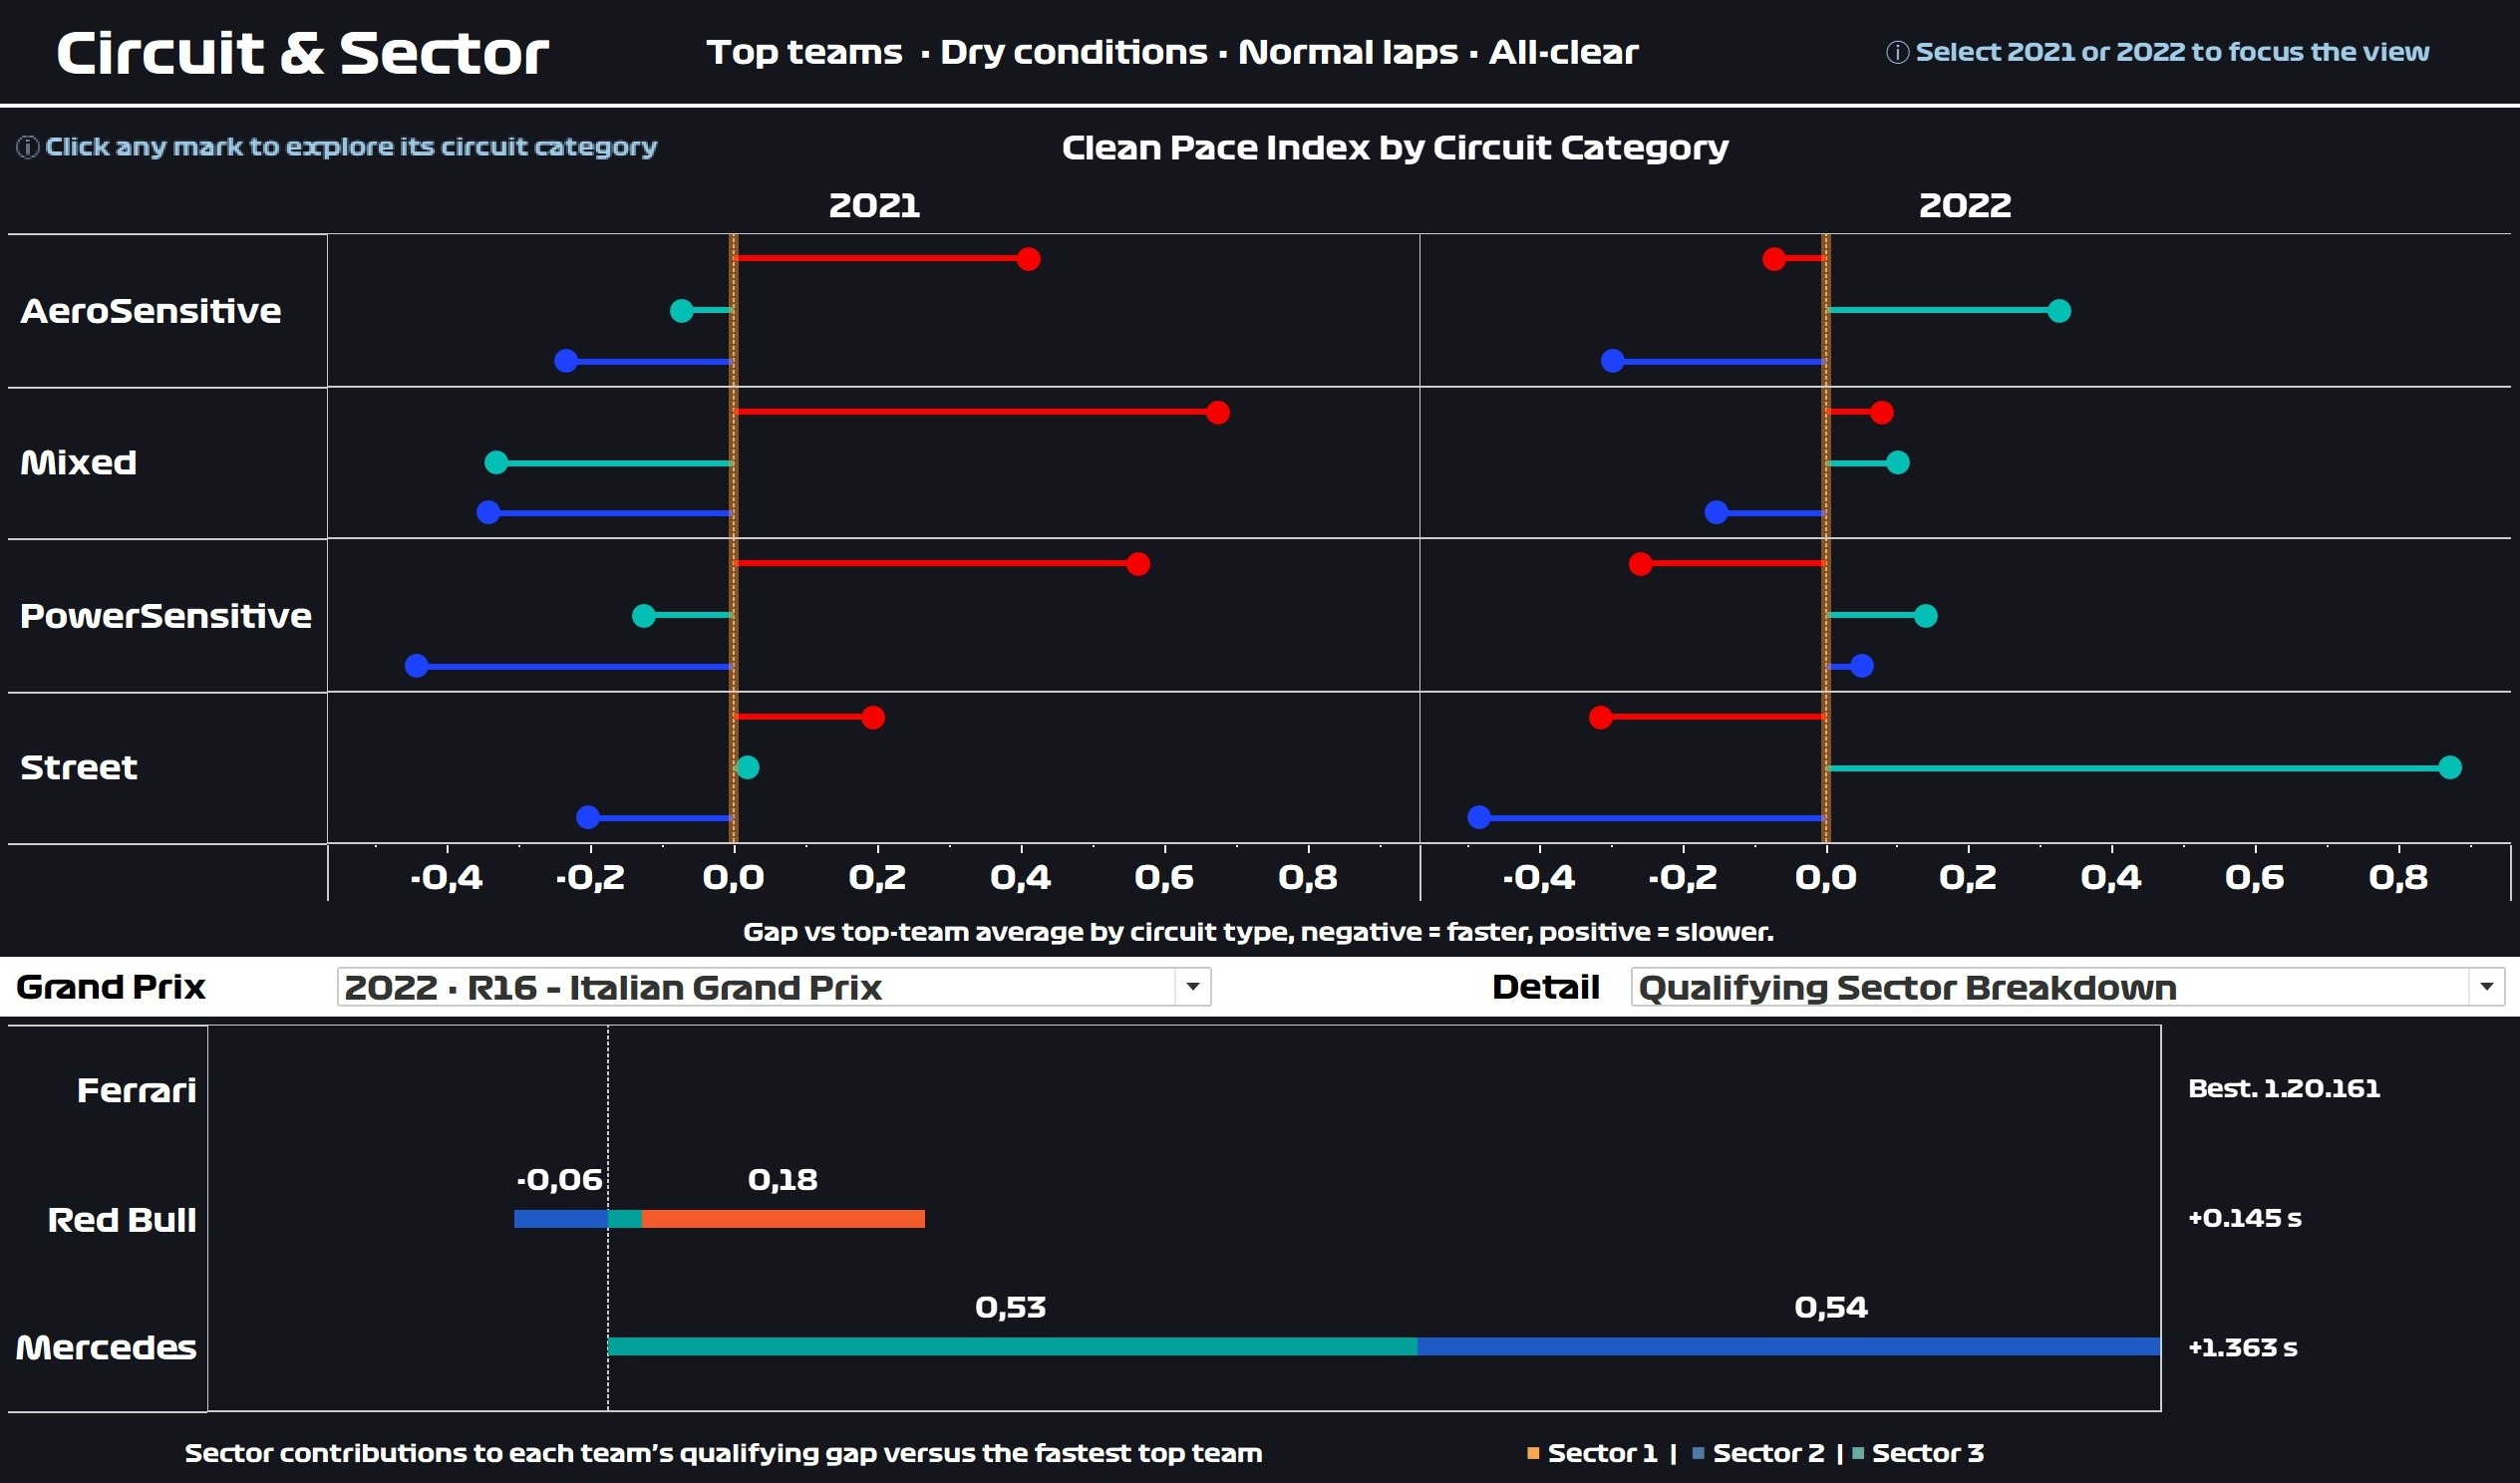

This screenshot's page, from the dashboard's own definition file:
{"tool":"tableau","page":{"name":"Circuit & Sector","canvas":[1280,760],"ordinal":0},"visuals":[{"type":"text","box":[8,8,346,52]},{"type":"text","box":[354,8,592,52]},{"type":"worksheet","title":"Season Info Message","mark":"Automatic","box":[946,8,326,52]},{"type":"worksheet","title":"Season Back Button","mark":"Automatic","box":[960,8,312,52]},{"type":"worksheet","title":"Circuit category info","mark":"Automatic","box":[8,62,524,39]},{"type":"worksheet","title":"Back to Circuit Categories","mark":"Text","box":[8,62,467,39]},{"type":"worksheet","title":"Circuit View Dynamic Title","mark":"Automatic","box":[532,62,415,39]},{"type":"worksheet","title":"Grand Prix Below Info","mark":"Automatic","box":[890,62,382,39]},{"type":"blank","box":[8,101,161,20]},{"type":"worksheet","title":"Season Year Selector","mark":"Text","rows":["Calculation_1987116227198986"],"cols":["season_year"],"box":[169,101,1103,20]},{"type":"worksheet","title":"CPI — Category Overview","mark":"GanttBar","rows":["global_circuit_category","team_name"],"cols":["season_year","Calculation_2377154289201161","Calculation_2377154284285960"],"box":[8,121,1264,366.9]},{"type":"worksheet","title":"CPI — Circuit Drilldown","mark":"GanttBar","rows":["event_name","team_name"],"cols":["season_year","Calculation_2377154289201161","Calculation_2377154284285960"],"box":[8,121,1264,367]},{"type":"text","box":[8,488,162,30]},{"type":"parameter","param":"[Parameters].[Parameter 1987116235718677]","box":[170,488,453,30]},{"type":"text","box":[623,488,196,30]},{"type":"parameter","param":"[Parameters].[Parameter 3402459086753835]","box":[819,488,453,30]},{"type":"worksheet","title":"Sector 1 Fingerprint","mark":"Circle","rows":["team_name"],"cols":["season_year","Calculation_2377154473168937","Calculation_2377154461823002"],"box":[8,518,470,234]},{"type":"worksheet","title":"Quali Sector Contribution","mark":"Bar","rows":["team_name"],"cols":["season_year"],"box":[8,518,1089,234]},{"type":"worksheet","title":"Clean Race Pace Overview","mark":"GanttBar","rows":["team_name"],"cols":["Calculation_3402459075788824","Calculation_3402459075862553"],"box":[8,518,928,234]},{"type":"worksheet","title":"Sector 2 Fingerprint","mark":"Circle","rows":["team_name"],"cols":["season_year","Calculation_2377154478805036","Calculation_2377154462015515"],"box":[478,518,403,234]},{"type":"worksheet","title":"Sector 3 Fingerprint","mark":"Circle","rows":["team_name"],"cols":["season_year","Calculation_2377154482085935","Team Sector 2 Avg S (copy)_2377154462101532"],"box":[881,518,391,234]},{"type":"worksheet","title":"Clean Race Pace Overview Labels","mark":"Text","rows":["team_name"],"box":[936,518,336,234]},{"type":"worksheet","title":"Qualifying Result KPI","mark":"Text","rows":["team_name"],"box":[1097,518,175,202]},{"type":"blank","box":[1097,720,175,32]}]}

Visuals, with their boxes in screenshot pixels (x1, y1, x2, y2), scaled from the page's 1280x760 canvas onto the 2520x1483 screenshot:
text: (x1=16, y1=16, x2=697, y2=117)
text: (x1=697, y1=16, x2=1862, y2=117)
"Season Info Message" worksheet: (x1=1862, y1=16, x2=2504, y2=117)
"Season Back Button" worksheet: (x1=1890, y1=16, x2=2504, y2=117)
"Circuit category info" worksheet: (x1=16, y1=121, x2=1048, y2=197)
"Back to Circuit Categories" worksheet (Text marks): (x1=16, y1=121, x2=935, y2=197)
"Circuit View Dynamic Title" worksheet: (x1=1048, y1=121, x2=1864, y2=197)
"Grand Prix Below Info" worksheet: (x1=1752, y1=121, x2=2504, y2=197)
blank: (x1=16, y1=197, x2=333, y2=236)
"Season Year Selector" worksheet (Text marks): (x1=333, y1=197, x2=2504, y2=236)
"CPI — Category Overview" worksheet (GanttBar marks): (x1=16, y1=236, x2=2504, y2=952)
"CPI — Circuit Drilldown" worksheet (GanttBar marks): (x1=16, y1=236, x2=2504, y2=952)
text: (x1=16, y1=952, x2=335, y2=1011)
parameter: (x1=335, y1=952, x2=1226, y2=1011)
text: (x1=1226, y1=952, x2=1613, y2=1011)
parameter: (x1=1613, y1=952, x2=2504, y2=1011)
"Sector 1 Fingerprint" worksheet (Circle marks): (x1=16, y1=1011, x2=941, y2=1467)
"Quali Sector Contribution" worksheet (Bar marks): (x1=16, y1=1011, x2=2160, y2=1467)
"Clean Race Pace Overview" worksheet (GanttBar marks): (x1=16, y1=1011, x2=1843, y2=1467)
"Sector 2 Fingerprint" worksheet (Circle marks): (x1=941, y1=1011, x2=1734, y2=1467)
"Sector 3 Fingerprint" worksheet (Circle marks): (x1=1734, y1=1011, x2=2504, y2=1467)
"Clean Race Pace Overview Labels" worksheet (Text marks): (x1=1843, y1=1011, x2=2504, y2=1467)
"Qualifying Result KPI" worksheet (Text marks): (x1=2160, y1=1011, x2=2504, y2=1405)
blank: (x1=2160, y1=1405, x2=2504, y2=1467)
